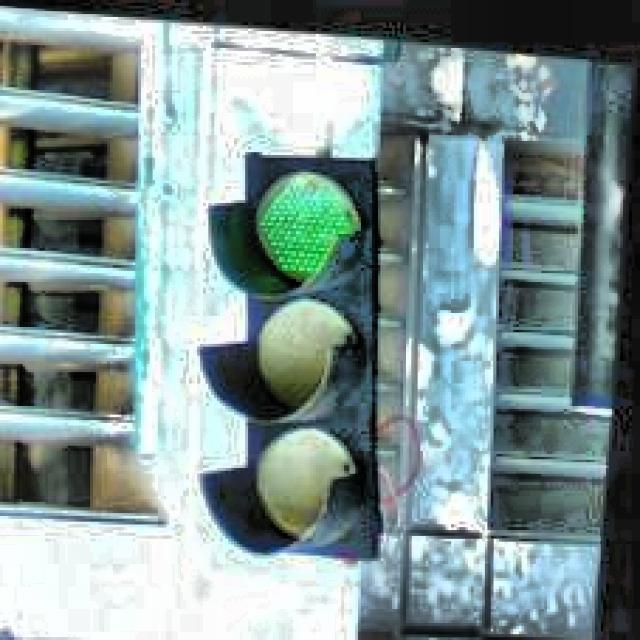green: (185, 137, 413, 557)
